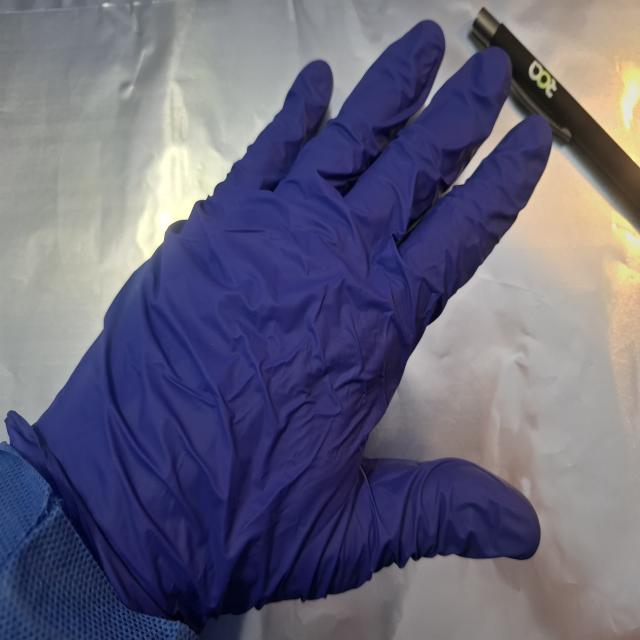glove_on: (22, 14, 557, 628)
